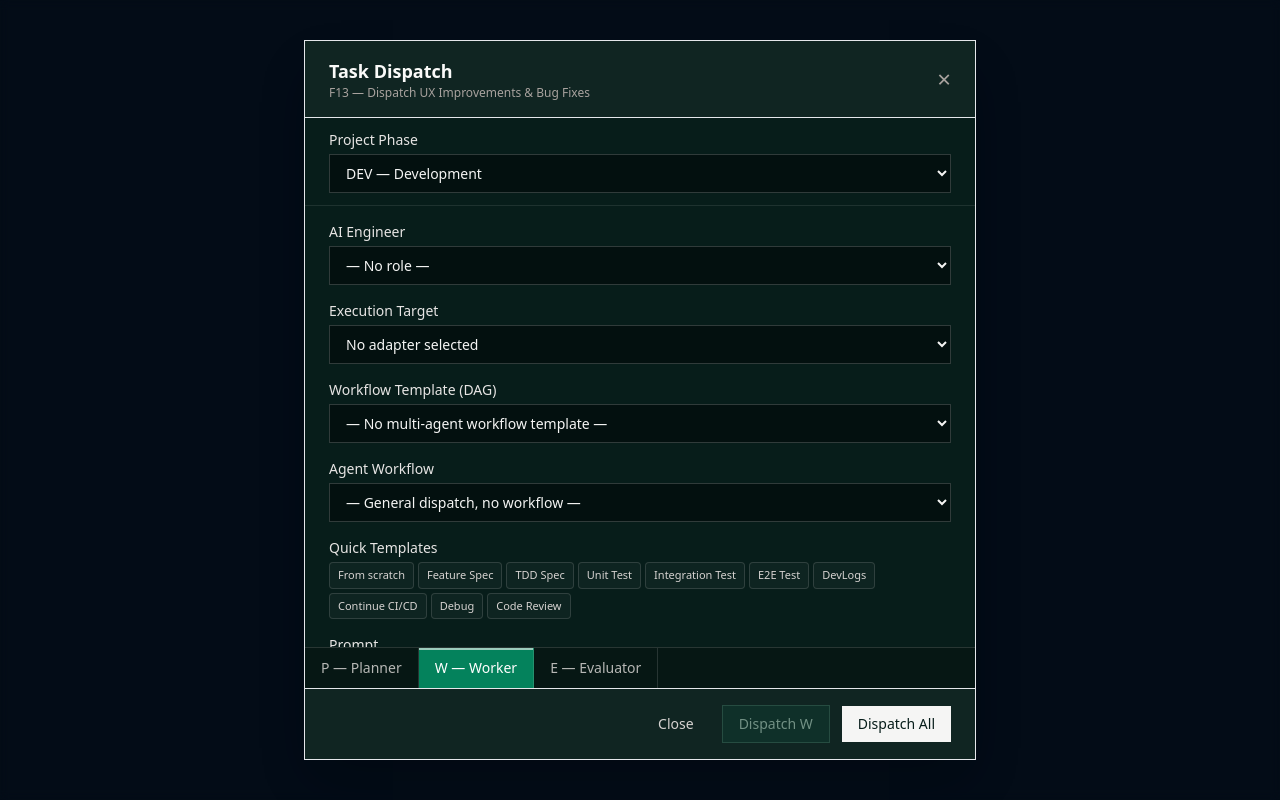
TaskDispatchModal [kill confirmation] › shows pending preparation before PID, then live output after spawn
The width and height of the screenshot is (1280, 800).
Select "Claude Code" in the dropdown below "Execution Target". click: x=640, y=344
box: [329,325,951,364]
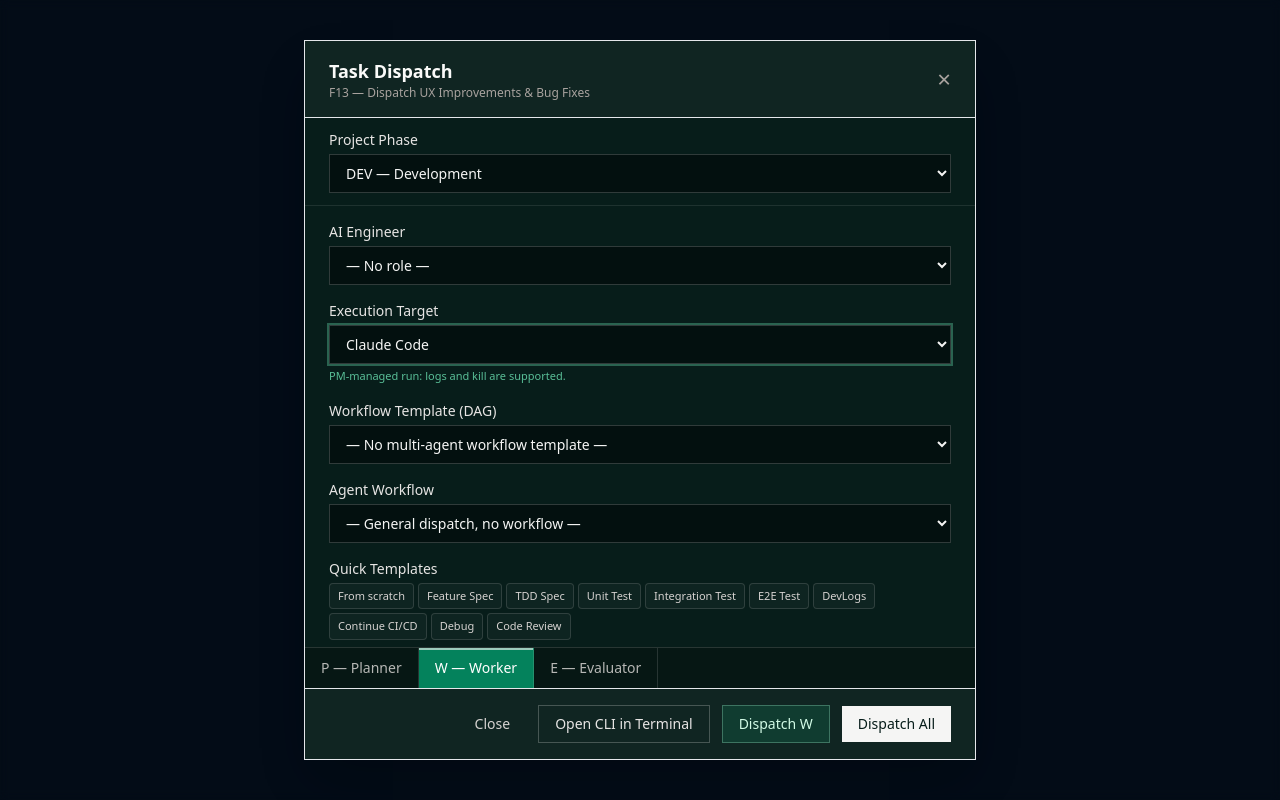
Click the button "Dispatch W". click: x=776, y=724
box: [722,705,830,743]
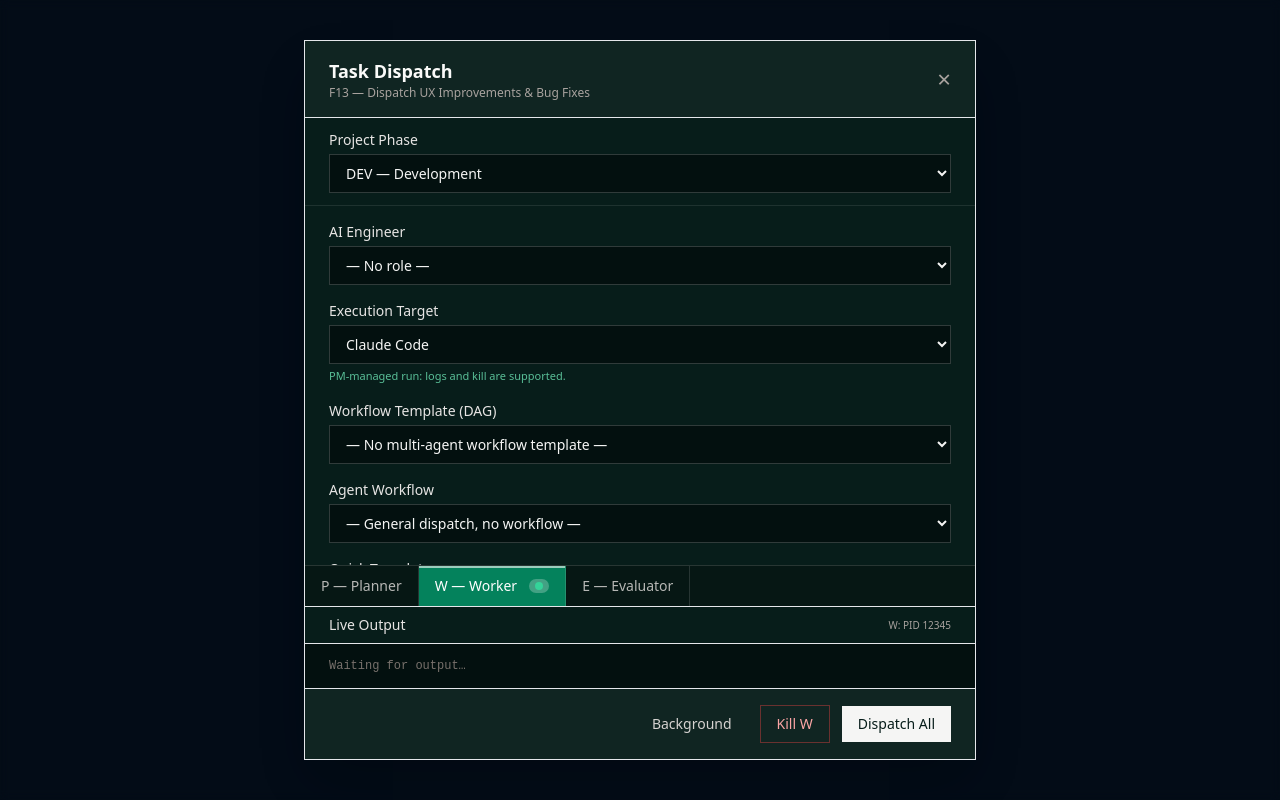
Expected: the text "Live Output" is shown, [329,615,406,635]
Expected: the text "Waiting for output…" is shown, [329,659,466,673]
Expected: the text "W: PID 12345" is shown, [888,618,951,632]
